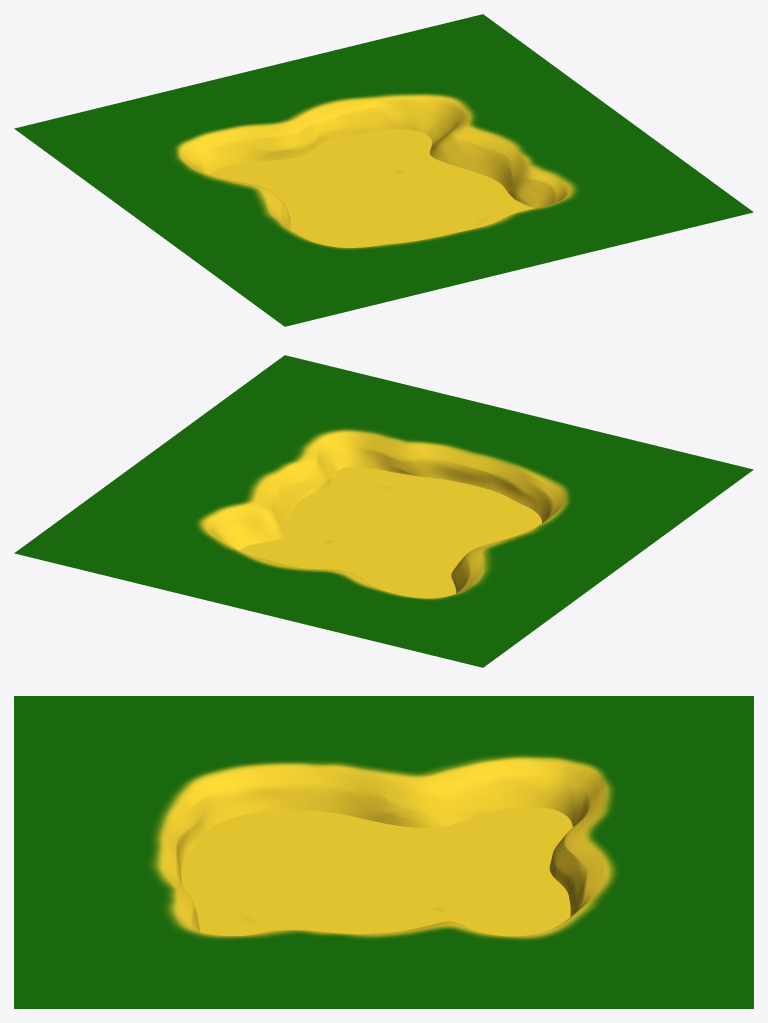
The model's file is LakeGroundGeometry.glb.
The picture shows the model from 3 angles, top to bottom: view 1: azimuth 30°, elevation 25°; view 2: azimuth 150°, elevation 25°; view 3: azimuth 270°, elevation 25°; orthographic projection. The views are drawn at different scales.
Visible parts, largest first — view 1: Plane; view 2: Plane; view 3: Plane.
Boxes of the visible parts, x1,y1,x2,y2 form: Plane: (14,14,753,326); Plane: (14,355,753,667); Plane: (14,696,753,1008).
Bounding box in the file's own units: 100 × 5 × 100.
1 material, 1 textured.
